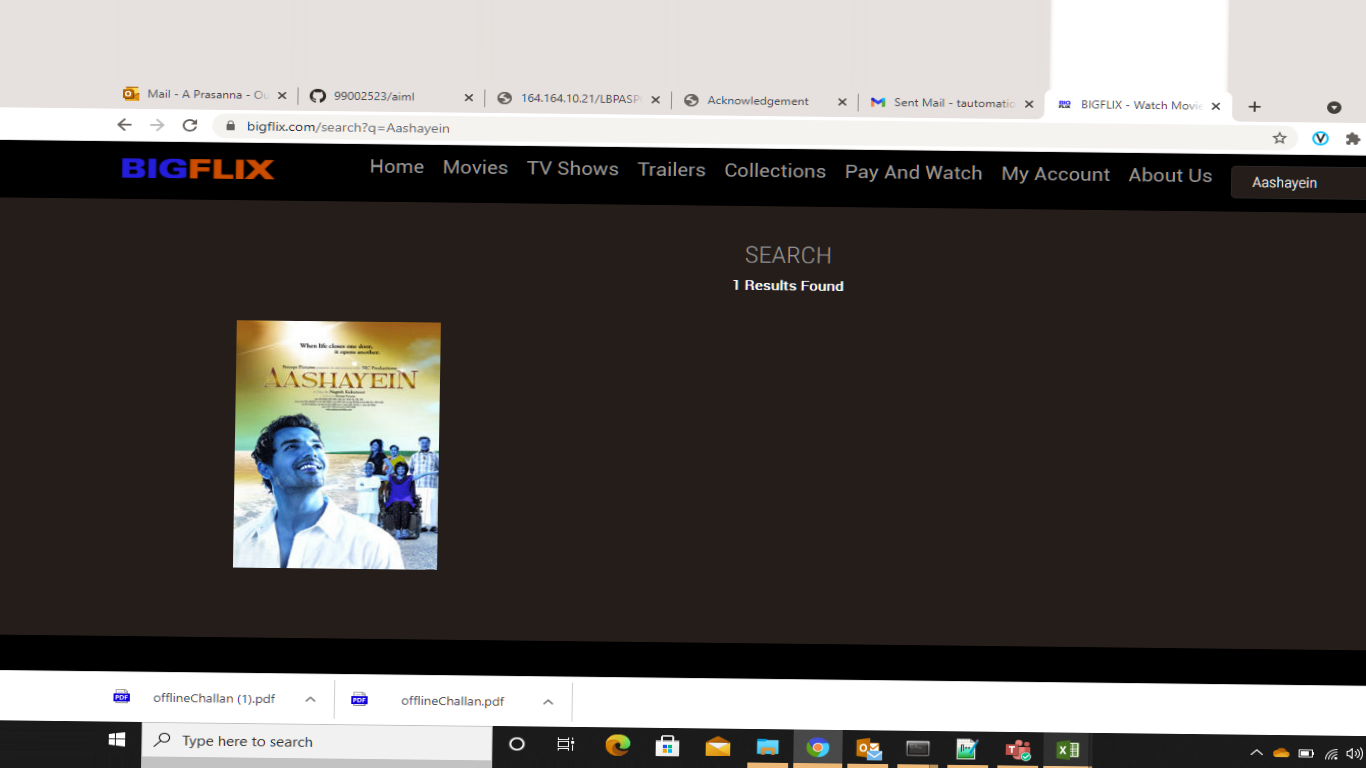myaccountbutton: (996, 150, 1118, 197)
resultsfound: (675, 235, 886, 298)
searchtextbox: (1222, 160, 1366, 206)
